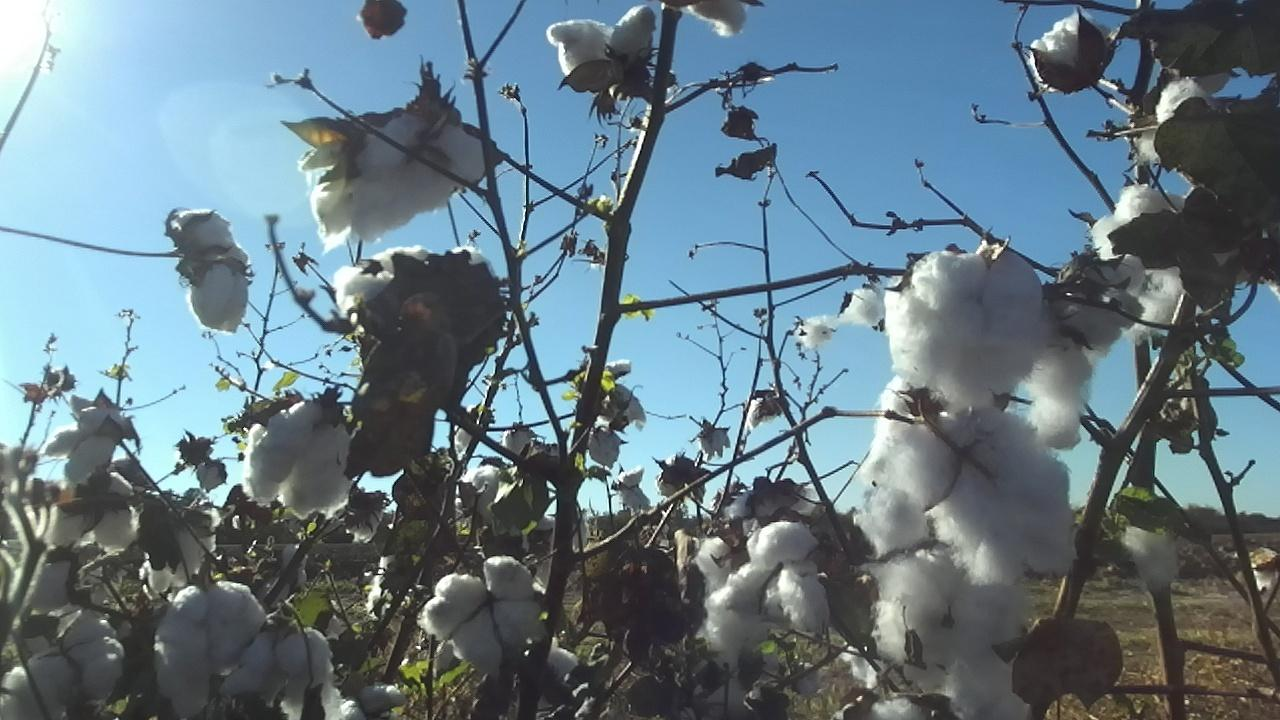cotton_ready: (899, 410, 1078, 581), (885, 250, 1043, 409), (862, 375, 999, 558), (1027, 256, 1146, 452), (864, 555, 1029, 681), (351, 109, 494, 244), (1090, 183, 1193, 344), (153, 581, 269, 720), (421, 558, 548, 676), (722, 523, 833, 631), (253, 396, 350, 515), (900, 645, 1039, 718), (693, 587, 763, 720), (176, 208, 249, 334), (28, 608, 124, 701), (221, 624, 334, 700), (38, 392, 127, 485), (329, 244, 436, 315), (548, 7, 656, 76), (1027, 8, 1114, 92), (53, 470, 139, 551), (240, 420, 307, 522), (1134, 77, 1210, 164), (151, 503, 219, 594), (301, 151, 353, 251), (10, 558, 74, 628), (448, 244, 503, 315), (688, 533, 744, 601), (1124, 523, 1181, 589), (728, 485, 820, 524), (832, 694, 955, 720), (607, 355, 647, 431), (685, 0, 749, 38), (278, 683, 341, 720), (339, 686, 406, 720), (839, 283, 887, 328), (0, 667, 37, 720)
